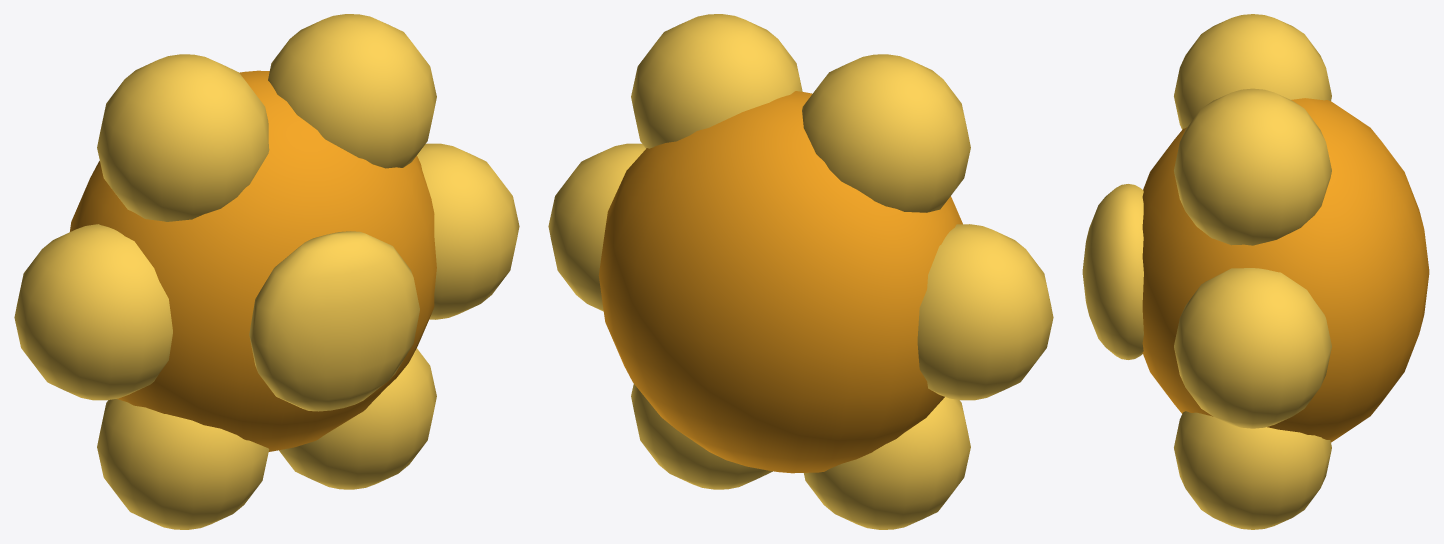
The model's file is pickup_pollen.glb.
3 views of the same model, side by side, from view 1: azimuth 30°, elevation 25°; view 2: azimuth 150°, elevation 25°; view 3: azimuth 270°, elevation 25° (orthographic). The views are drawn at different scales.
Parts seen in each view (by area): view 1: PickupGeometryGeometry; view 2: PickupGeometryGeometry; view 3: PickupGeometryGeometry.
Part boxes in pixels (x1,y1,x2,y2): PickupGeometryGeometry: (14, 14, 519, 529); PickupGeometryGeometry: (548, 14, 1053, 529); PickupGeometryGeometry: (1082, 14, 1429, 529).
Bounding box in the file's own units: 0.85 × 0.7723 × 0.57.
